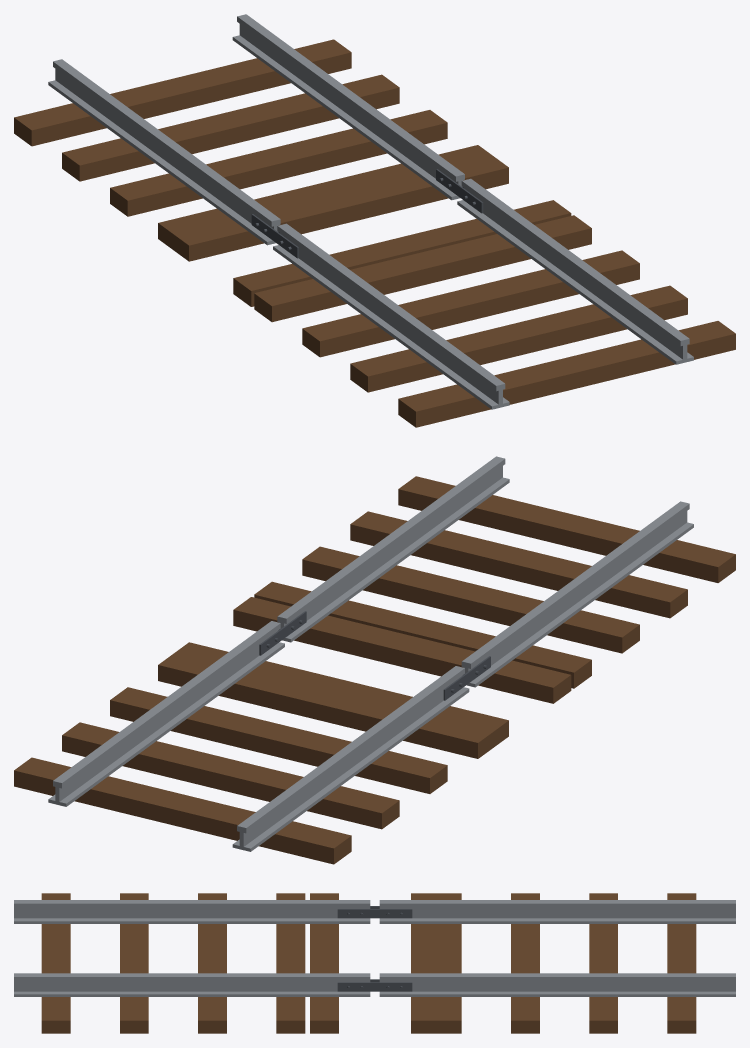
Rendered from prop_rail_joint_gapped.glb.
The picture shows the model from 3 angles, top to bottom: view 1: azimuth 30°, elevation 25°; view 2: azimuth 150°, elevation 25°; view 3: azimuth 270°, elevation 25°; orthographic projection. The views are drawn at different scales.
Parts seen in each view (by area): view 1: sleepers, rail_far_a, rail_near_a, rail_far_b, rail_near_b; view 2: sleepers, rail_near_b, rail_far_b, rail_far_a, rail_near_a; view 3: sleepers, rail_far_a, rail_far_b, rail_near_a, rail_near_b, fishplates_far, fishplates_near.
Boxes of the visible parts, x1,y1,x2,y2 form: sleepers: [14, 39, 735, 427]; rail_far_a: [457, 178, 693, 364]; rail_near_a: [273, 223, 509, 409]; rail_far_b: [232, 14, 464, 200]; rail_near_b: [48, 59, 280, 245]; sleepers: [14, 476, 735, 864]; rail_near_b: [232, 666, 469, 851]; rail_far_b: [48, 621, 284, 806]; rail_far_a: [277, 456, 509, 642]; rail_near_a: [461, 501, 693, 687]; sleepers: [41, 893, 696, 1033]; rail_far_a: [14, 973, 370, 996]; rail_far_b: [379, 973, 735, 996]; rail_near_a: [14, 900, 370, 923]; rail_near_b: [379, 900, 735, 923]; fishplates_far: [337, 979, 412, 991]; fishplates_near: [337, 906, 412, 918].
Bounding box in the file's own units: 2.5 × 0.29 × 6.
